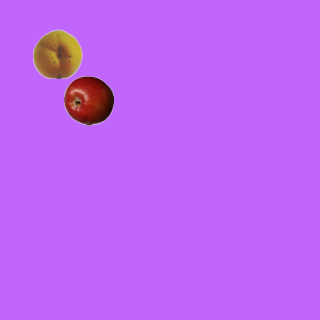Apple Braeburn: (63, 75, 113, 125)
Peach 2: (32, 28, 82, 78)
